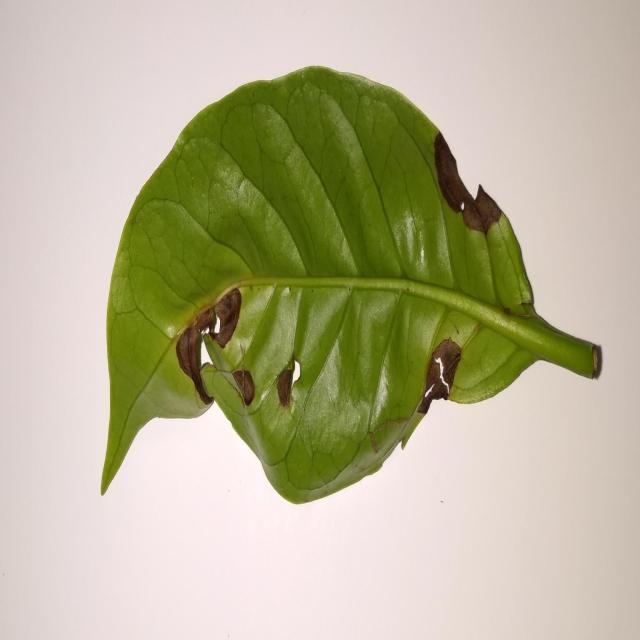phoma: (176, 288, 241, 404), (434, 131, 504, 236), (417, 338, 461, 414), (276, 354, 301, 408), (233, 369, 254, 405)
